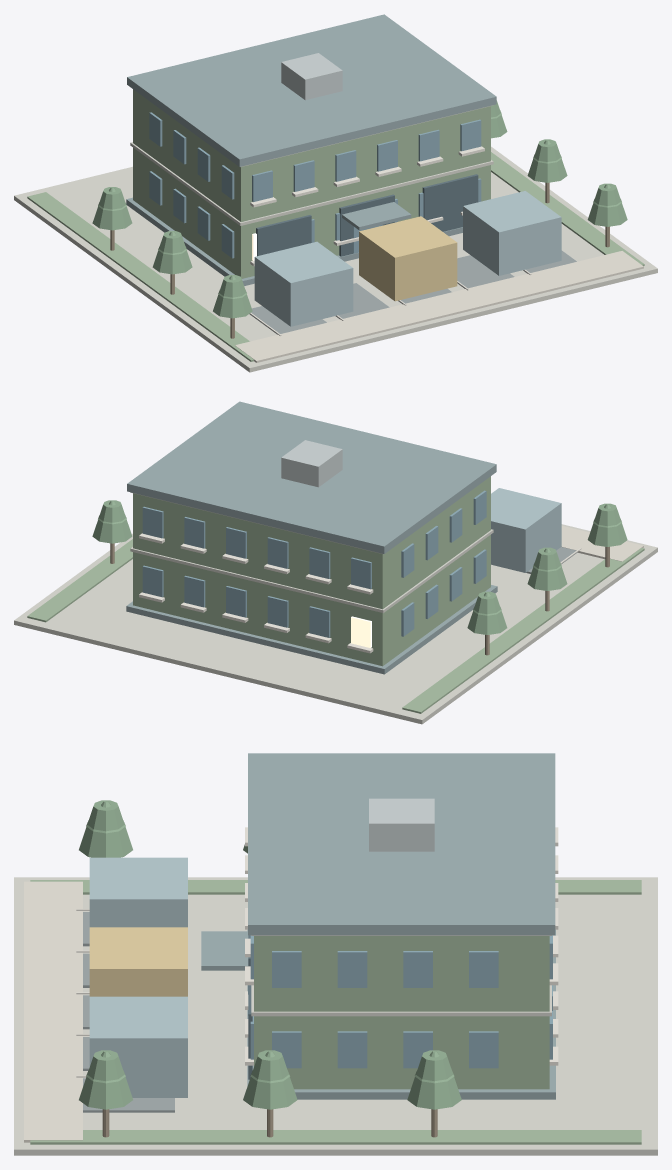
File: remaster_waste.glb
The picture shows the model from 3 angles, top to bottom: view 1: azimuth 30°, elevation 25°; view 2: azimuth 150°, elevation 25°; view 3: azimuth 270°, elevation 25°; orthographic projection. The views are drawn at different scales.
Visible parts, largest first — view 1: remaster_waste roof, remaster_waste green, remaster_waste stone, remaster_waste blue, remaster_waste cream, remaster_waste glass, remaster_waste leaf, remaster_waste gold, remaster_waste dark, remaster_waste asphalt, remaster_waste metal, remaster_waste white (+1 smaller); view 2: remaster_waste green, remaster_waste roof, remaster_waste stone, remaster_waste glass, remaster_waste leaf, remaster_waste blue, remaster_waste metal, remaster_waste white, remaster_waste cream, remaster_waste warm; view 3: remaster_waste stone, remaster_waste roof, remaster_waste green, remaster_waste blue, remaster_waste cream, remaster_waste glass, remaster_waste leaf, remaster_waste gold, remaster_waste metal, remaster_waste white, remaster_waste asphalt, remaster_waste bark.
Boxes of the visible parts, left/top/right/bottom form: remaster_waste roof: left=126, top=14, right=496, bottom=285; remaster_waste green: left=27, top=89, right=644, bottom=361; remaster_waste stone: left=14, top=105, right=657, bottom=372; remaster_waste blue: left=254, top=191, right=561, bottom=326; remaster_waste cream: left=235, top=251, right=643, bottom=362; remaster_waste glass: left=149, top=112, right=481, bottom=258; remaster_waste leaf: left=92, top=100, right=627, bottom=318; remaster_waste gold: left=359, top=216, right=457, bottom=301; remaster_waste dark: left=256, top=174, right=478, bottom=256; remaster_waste asphalt: left=249, top=250, right=576, bottom=334; remaster_waste metal: left=281, top=53, right=342, bottom=100; remaster_waste white: left=250, top=146, right=531, bottom=336; remaster_waste green: left=27, top=476, right=644, bottom=713; remaster_waste roof: left=126, top=401, right=497, bottom=674; remaster_waste stone: left=14, top=492, right=657, bottom=724; remaster_waste glass: left=142, top=490, right=486, bottom=637; remaster_waste leaf: left=92, top=500, right=627, bottom=634; remaster_waste blue: left=491, top=488, right=561, bottom=572; remaster_waste metal: left=281, top=440, right=342, bottom=487; remaster_waste white: left=139, top=533, right=581, bottom=653; remaster_waste cream: left=561, top=526, right=643, bottom=561; remaster_waste warm: left=351, top=616, right=371, bottom=647; remaster_waste stone: left=14, top=877, right=657, bottom=1155; remaster_waste roof: left=201, top=753, right=555, bottom=1099; remaster_waste green: left=30, top=880, right=641, bottom=1144; remaster_waste blue: left=89, top=857, right=187, bottom=1097; remaster_waste cream: left=24, top=881, right=82, bottom=1142; remaster_waste glass: left=248, top=935, right=552, bottom=1068; remaster_waste leaf: left=79, top=800, right=461, bottom=1109; remaster_waste gold: left=89, top=927, right=187, bottom=996; remaster_waste metal: left=369, top=798, right=434, bottom=851; remaster_waste white: left=76, top=827, right=558, bottom=1077; remaster_waste asphalt: left=83, top=912, right=174, bottom=1112; remaster_waste bark: left=102, top=1109, right=437, bottom=1137.
Size of the model in its own units: 19.65 by 7 by 19.6.
